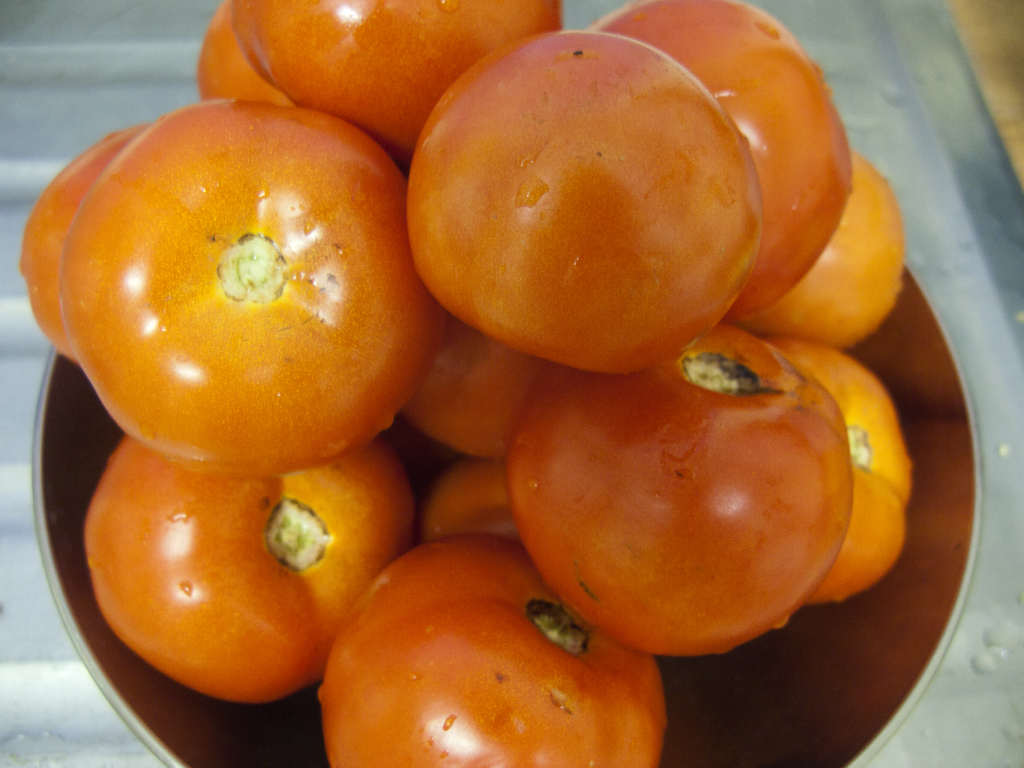Tomato: (17, 0, 915, 768)
